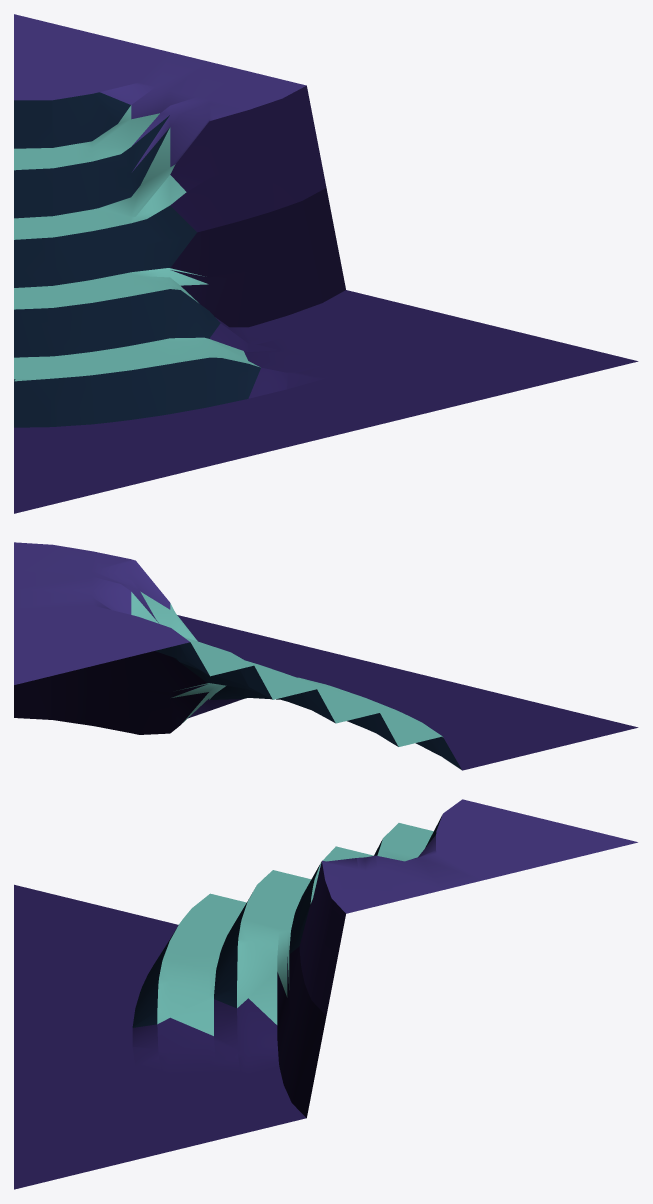
File: MODULE_ALIEN_MIX_CORNER_B_1.fbx
3 renders of one model, top to bottom at view 1: azimuth 30°, elevation 25°; view 2: azimuth 150°, elevation 25°; view 3: azimuth 270°, elevation 25°, orthographic.
Visible parts, largest first — view 1: MODULE_ALIEN_MIX_CORNER_B_1__export; view 2: MODULE_ALIEN_MIX_CORNER_B_1__export; view 3: MODULE_ALIEN_MIX_CORNER_B_1__export.
Part boxes in pixels (bbox=[...]): MODULE_ALIEN_MIX_CORNER_B_1__export: bbox=[14, 14, 638, 513]; MODULE_ALIEN_MIX_CORNER_B_1__export: bbox=[14, 542, 638, 770]; MODULE_ALIEN_MIX_CORNER_B_1__export: bbox=[14, 799, 637, 1189].
Bounding box in the file's own units: 100 × 29.78 × 86.6.
